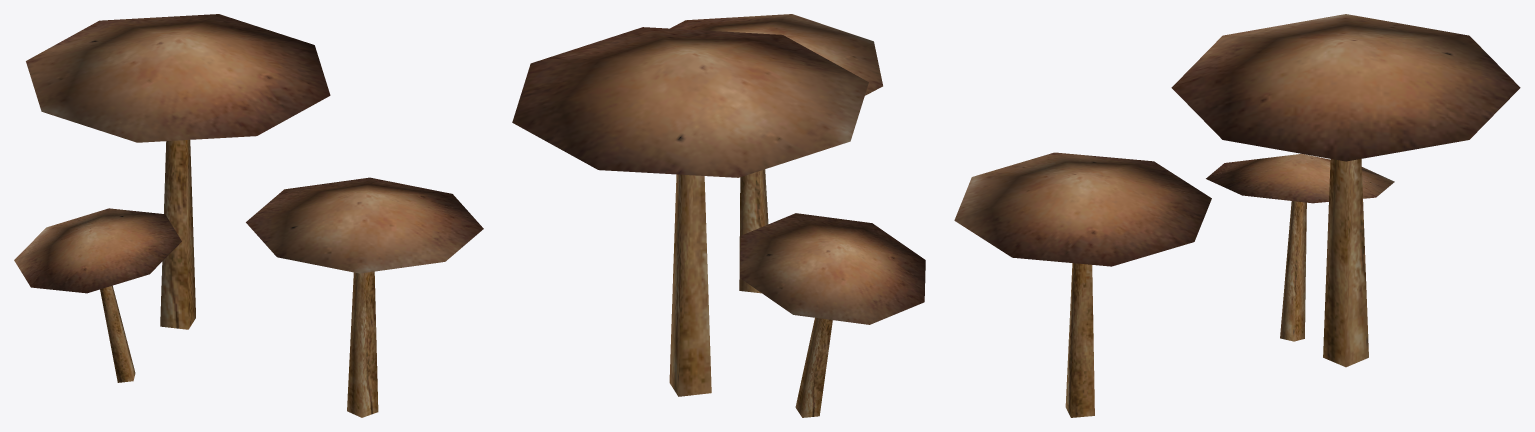
File: MK4_Trop_Shrooms2.DAE
3 renders of one model, left to right at view 1: azimuth 30°, elevation 25°; view 2: azimuth 150°, elevation 25°; view 3: azimuth 270°, elevation 25°, orthographic. The views are drawn at different scales.
Parts seen in each view (by area): view 1: MK4_Trop_Shrooms2; view 2: MK4_Trop_Shrooms2; view 3: MK4_Trop_Shrooms2.
Boxes of the visible parts, left/top/right/bottom form: MK4_Trop_Shrooms2: left=14, top=14, right=483, bottom=417; MK4_Trop_Shrooms2: left=512, top=14, right=925, bottom=417; MK4_Trop_Shrooms2: left=954, top=14, right=1520, bottom=417.
Size of the model in its own units: 0.5167 by 0.669 by 0.442.
